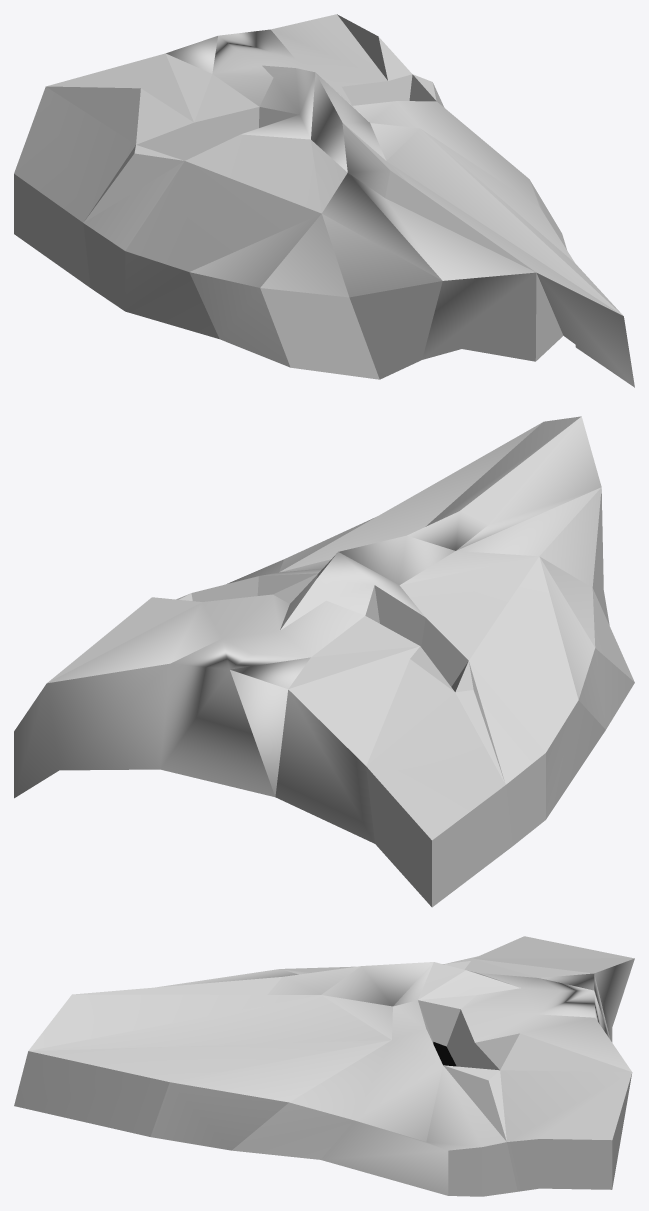
Rendered from Mask_04.fbx.
3 views of the same model, one above another, from view 1: azimuth 30°, elevation 25°; view 2: azimuth 150°, elevation 25°; view 3: azimuth 270°, elevation 25° (orthographic). The views are drawn at different scales.
Visible parts, largest first — view 1: Mask_04; view 2: Mask_04; view 3: Mask_04.
Part boxes in pixels (x1=…): Mask_04: x1=14, y1=14, x2=634, y2=387; Mask_04: x1=14, y1=416, x2=634, y2=907; Mask_04: x1=14, y1=936, x2=634, y2=1196.
Bounding box in the file's own units: 1933 × 959 × 3350.
